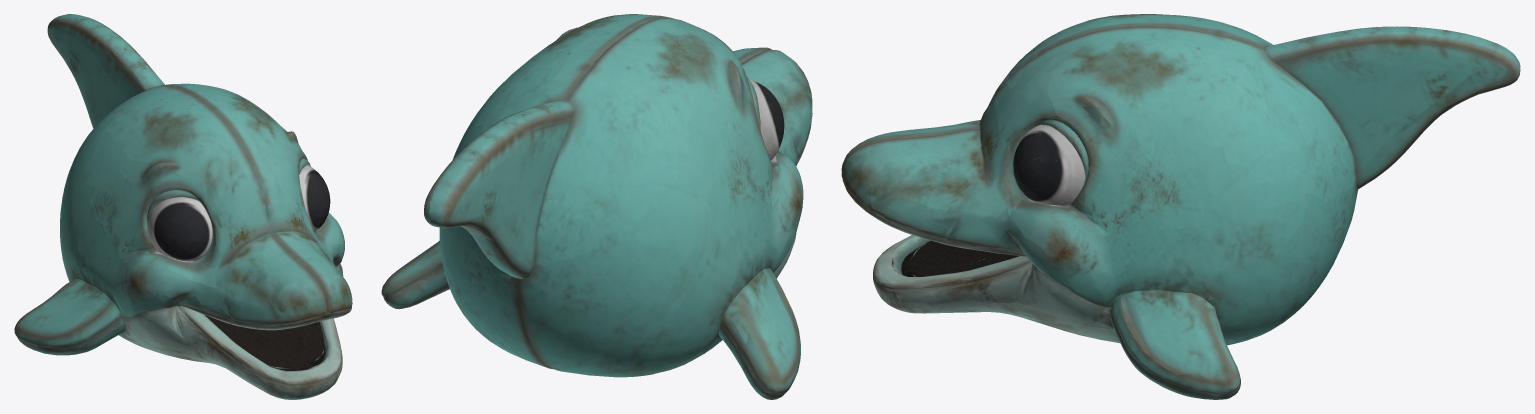
The model's file is testa_mascotte.glb.
3 views of the same model, side by side, from view 1: azimuth 30°, elevation 25°; view 2: azimuth 150°, elevation 25°; view 3: azimuth 270°, elevation 25° (orthographic). The views are drawn at different scales.
Visible parts, largest first — view 1: Mesh_0; view 2: Mesh_0; view 3: Mesh_0.
Part boxes in pixels (x1,y1,x2,y2): Mesh_0: [14, 14, 352, 399]; Mesh_0: [381, 14, 812, 399]; Mesh_0: [841, 14, 1520, 399].
Size of the model in its own units: 1.26 by 0.872 by 1.9.
Materials: 1 (1 with a texture image).
